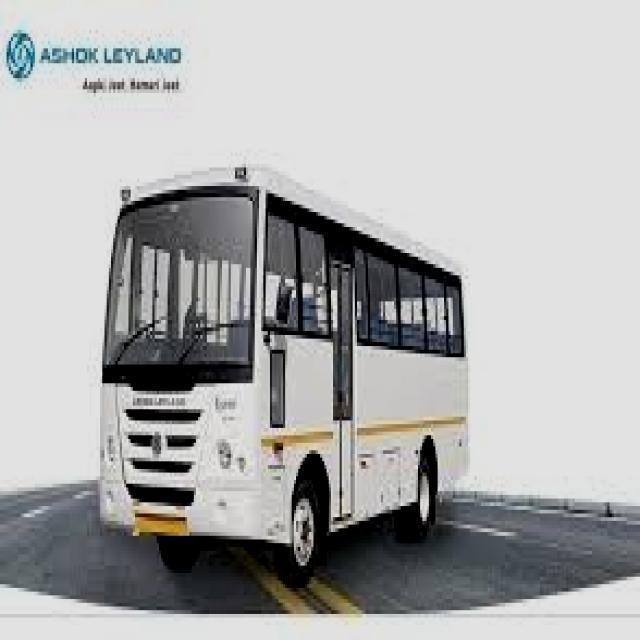Bus: (83, 135, 480, 575)
